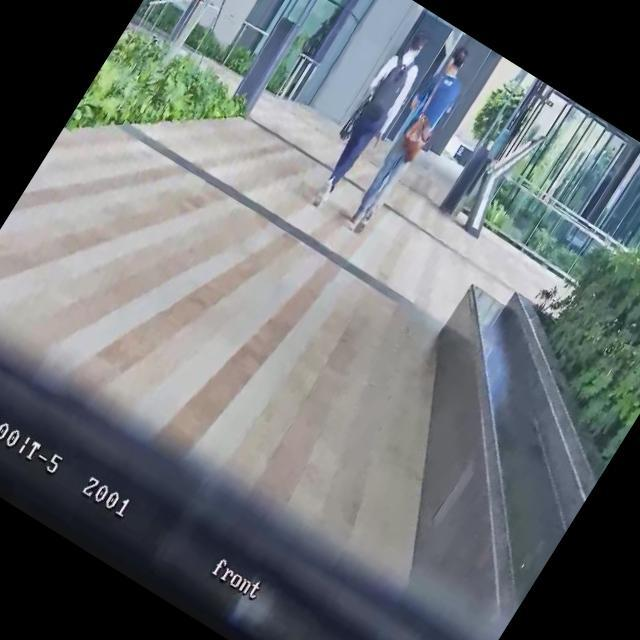person: (336, 38, 483, 240), (300, 19, 443, 214)
